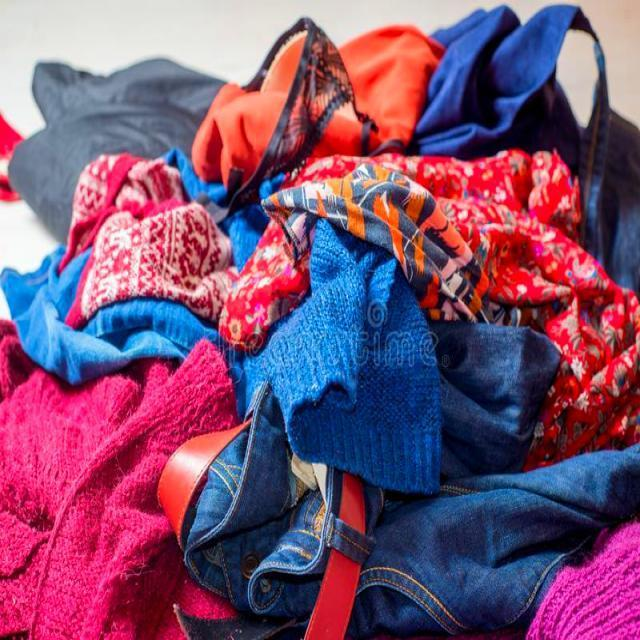clothes: (53, 133, 612, 632)
